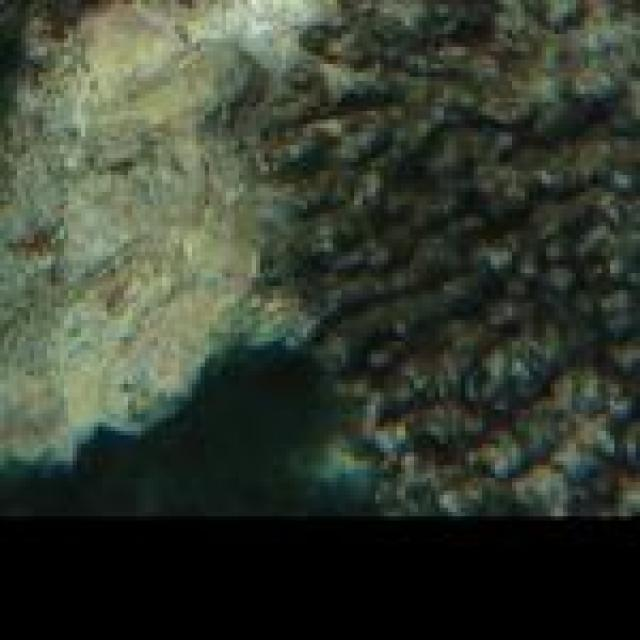Dead Coral: (262, 0, 640, 508)
